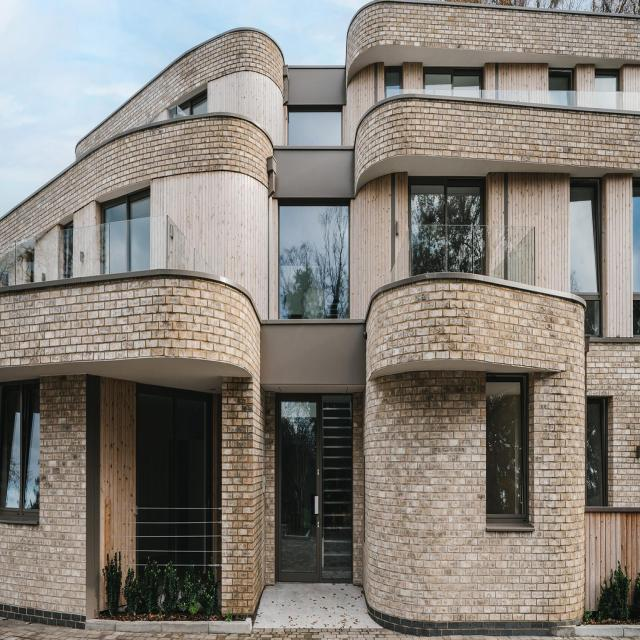door: (278, 397, 353, 584)
railing: (14, 218, 219, 288), (389, 225, 535, 284), (131, 505, 222, 571), (385, 87, 640, 109)
window: (279, 200, 350, 317), (487, 375, 529, 521), (8, 392, 44, 520), (571, 179, 601, 332), (410, 175, 483, 225), (585, 394, 608, 507), (286, 105, 345, 149), (424, 66, 483, 88), (630, 191, 640, 298), (104, 199, 150, 221), (549, 67, 574, 92), (594, 72, 619, 92)
